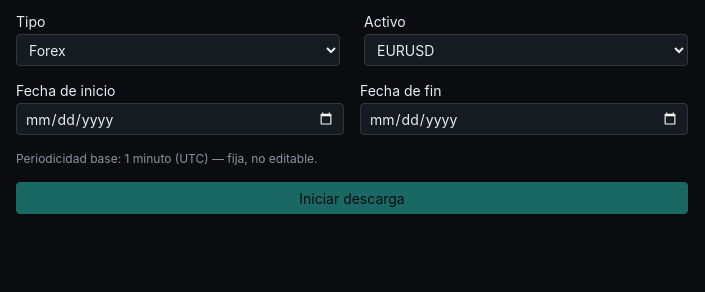
Test: DownloadForm (SCR-002) › shows an error banner and preserves the values when the request fails
Type "2026-01-01" into the date field labelled "Fecha de inicio" at (180, 119), box 16,103 -> 344,135
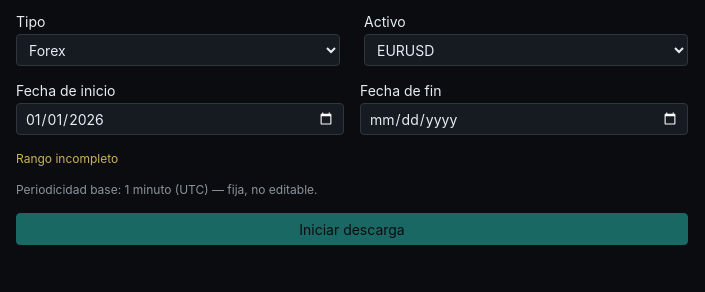
Type "2026-01-02" into the date field labelled "Fecha de fin" at (524, 119), box 360,103 -> 688,135
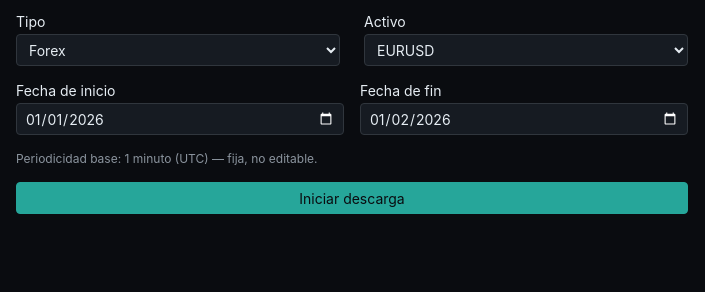
Click the button "Iniciar descarga" at (352, 198), box 16,182 -> 688,214
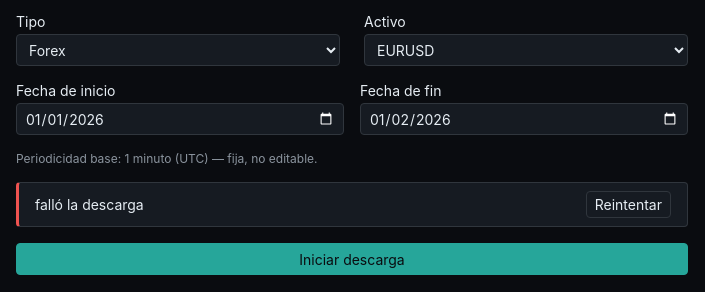
Expected: the text "falló la descarga" is shown, 35,196 -> 144,213
